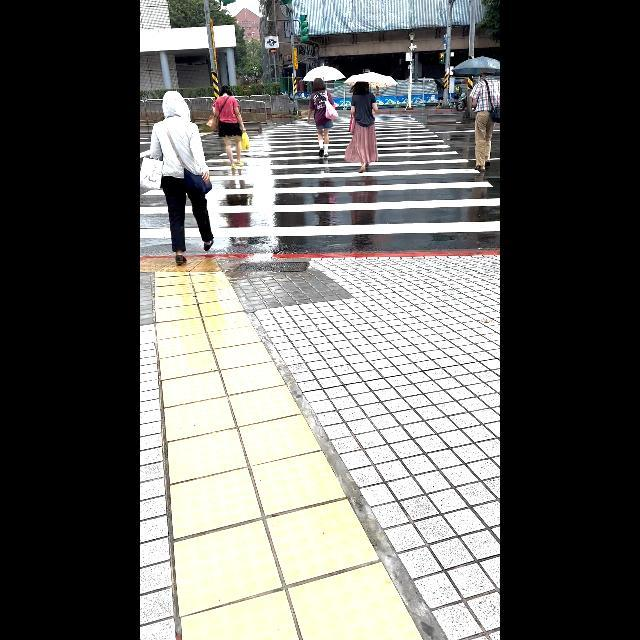sidewalk: (140, 115, 500, 238)
